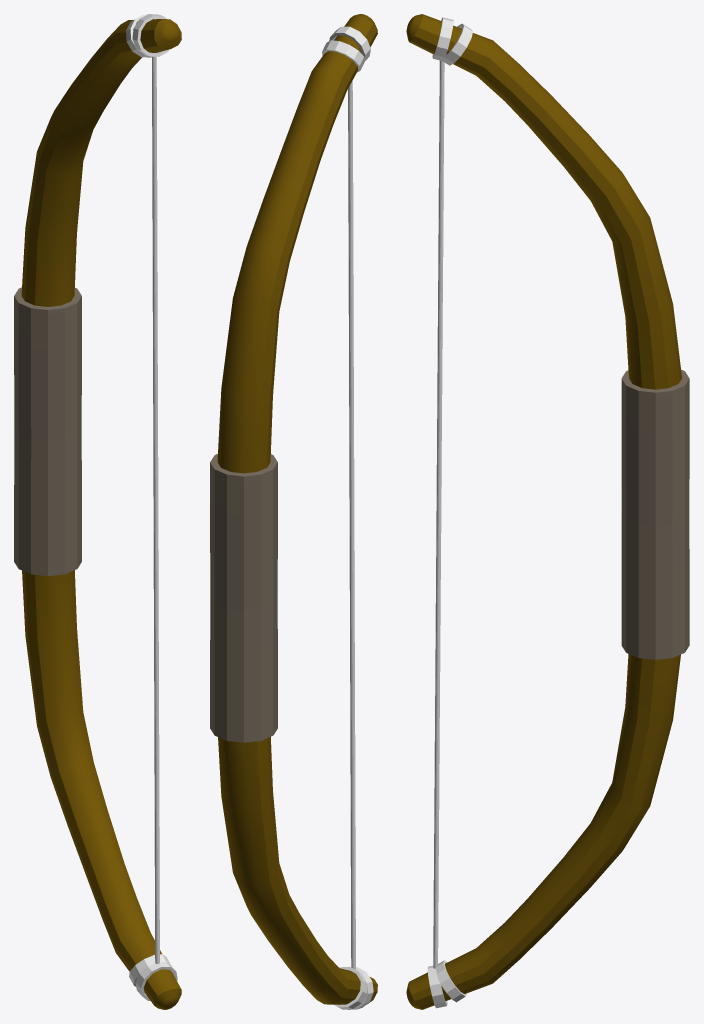
Rendered from Bow_FBX_Export.fbx.
3 views of the same model, side by side, from view 1: azimuth 30°, elevation 25°; view 2: azimuth 150°, elevation 25°; view 3: azimuth 270°, elevation 25° (orthographic).
Visible parts, largest first — view 1: Bow_Grouped_complete; view 2: Bow_Grouped_complete; view 3: Bow_Grouped_complete.
Boxes of the visible parts, x1,y1,x2,y2 form: Bow_Grouped_complete: (14, 14, 181, 1009); Bow_Grouped_complete: (210, 14, 377, 1009); Bow_Grouped_complete: (406, 14, 689, 1009).
Bounding box in the file's own units: 2.56 × 41.19 × 10.64.
